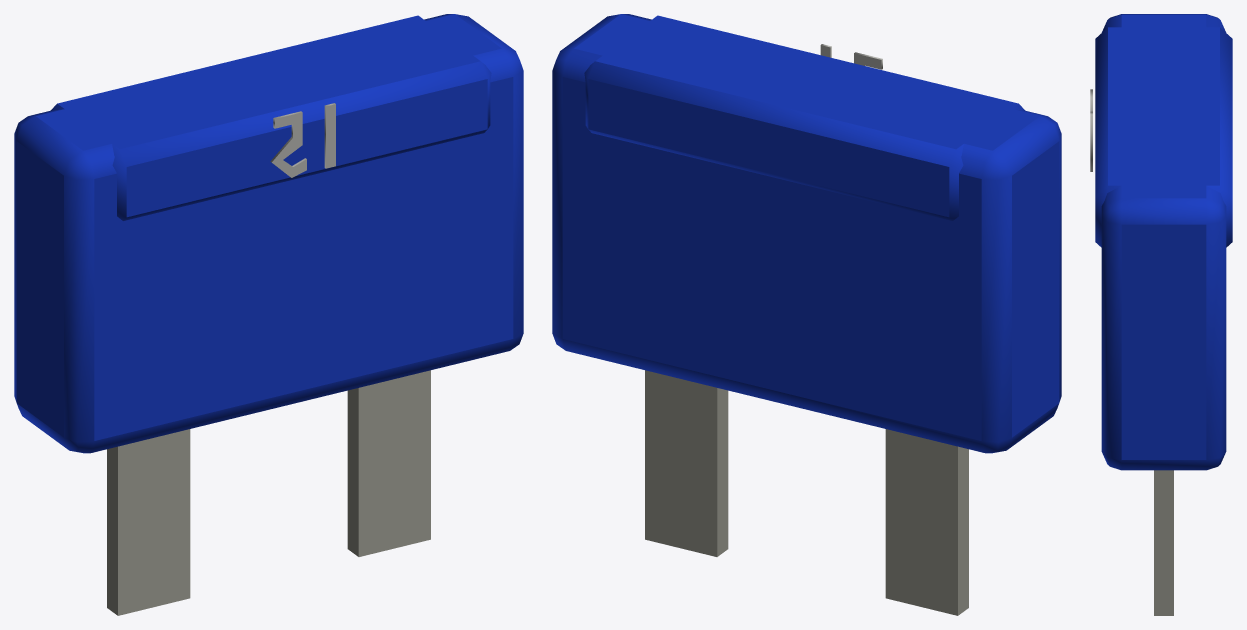
The model's file is fuse.obj.
3 views of the same model, side by side, from view 1: azimuth 30°, elevation 25°; view 2: azimuth 150°, elevation 25°; view 3: azimuth 270°, elevation 25° (orthographic). The views are drawn at different scales.
Size of the model in its own units: 0.019 by 0.0196 by 0.0057.
